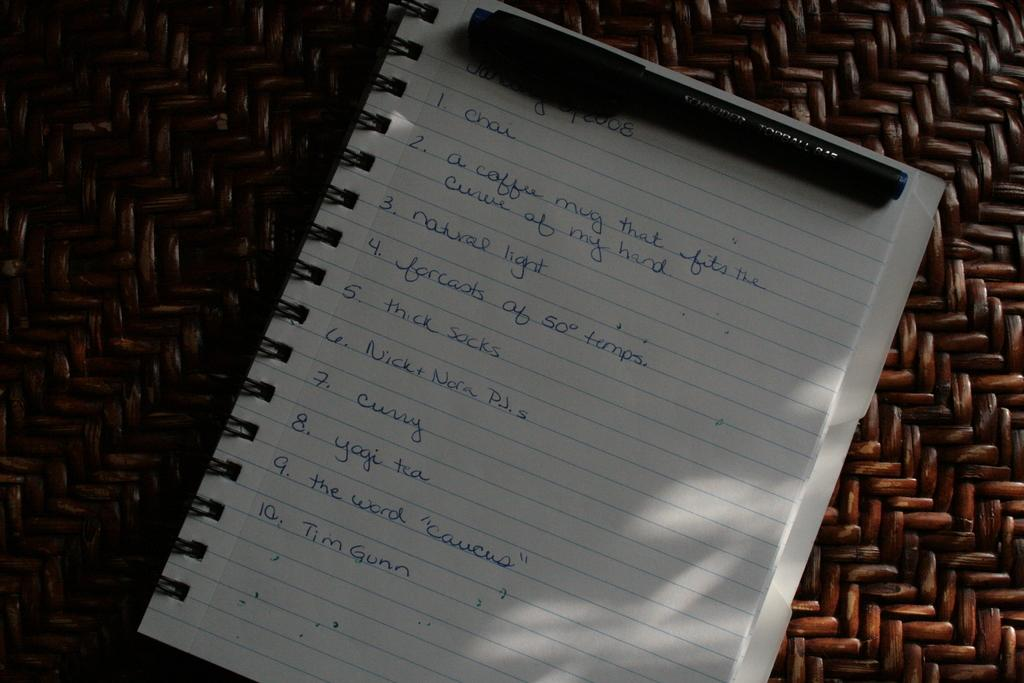pen: (468, 4, 911, 200)
